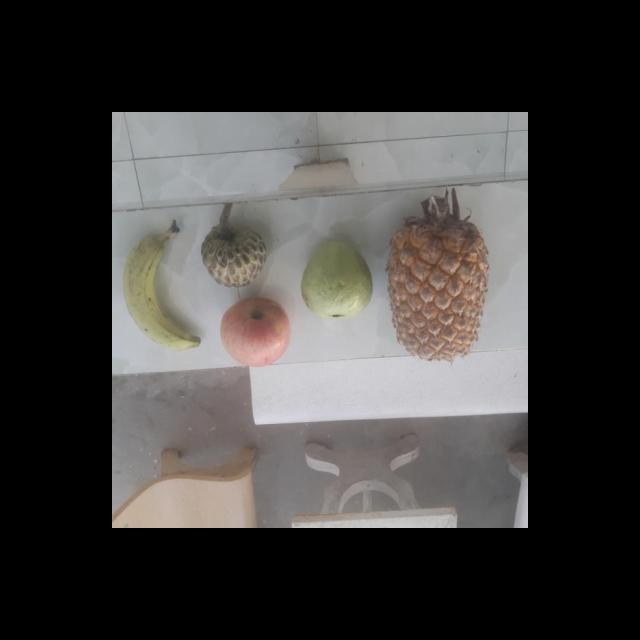Sakya fruit: (201, 214, 269, 287)
apple: (218, 296, 294, 367)
banana: (126, 226, 206, 350)
guava: (304, 241, 376, 320)
pineapple: (388, 216, 490, 360)
